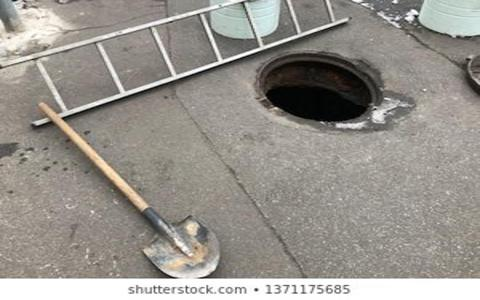open manhole: (253, 47, 406, 146)
